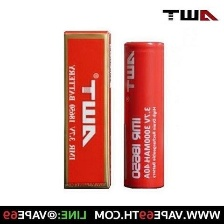battery: (59, 26, 113, 192), (121, 40, 166, 189)
